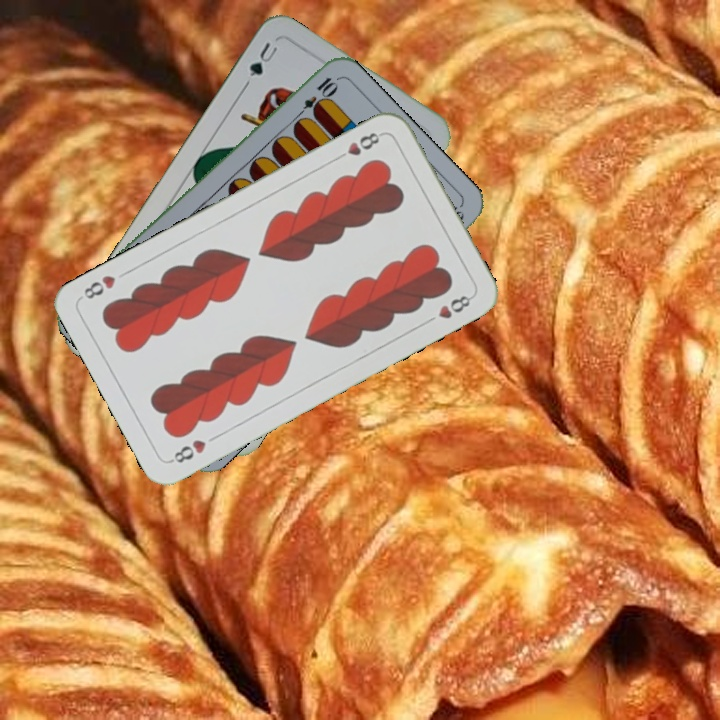E10: (291, 72, 340, 123)
GU: (245, 38, 281, 80)
H8: (331, 128, 386, 163), (166, 435, 209, 466)
